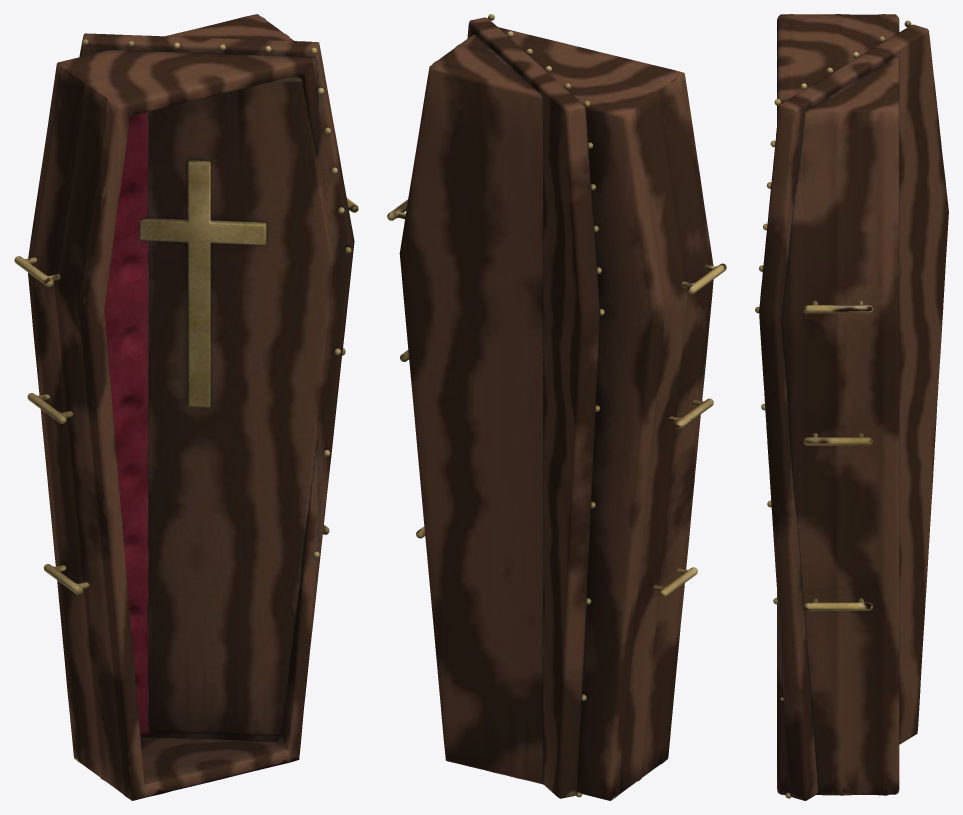
Rendered from coffin.glb.
3 views of the same model, side by side, from view 1: azimuth 30°, elevation 25°; view 2: azimuth 150°, elevation 25°; view 3: azimuth 270°, elevation 25° (orthographic).
Visible parts, largest first — view 1: Lid, Coffin_Body, Coffin_Lining, Lid_Cross, Coffin_Handles; view 2: Coffin_Body, Lid, Coffin_Handles; view 3: Coffin_Body, Lid, Coffin_Handles, Lid_Cross.
Part boxes in pixels (x1,y1,x2,y2): Lid: [79, 33, 354, 741]; Coffin_Body: [28, 14, 318, 800]; Coffin_Lining: [104, 112, 155, 736]; Lid_Cross: [82, 39, 351, 656]; Coffin_Handles: [14, 198, 358, 594]; Coffin_Body: [399, 27, 713, 800]; Lid: [467, 17, 600, 798]; Coffin_Handles: [387, 199, 726, 597]; Coffin_Body: [777, 14, 899, 795]; Lid: [759, 24, 948, 800]; Coffin_Handles: [803, 300, 872, 610]; Lid_Cross: [755, 20, 911, 798].
Bounding box in the file's own units: 0.9335 × 2.04 × 0.5078.
1 material, 1 textured.
